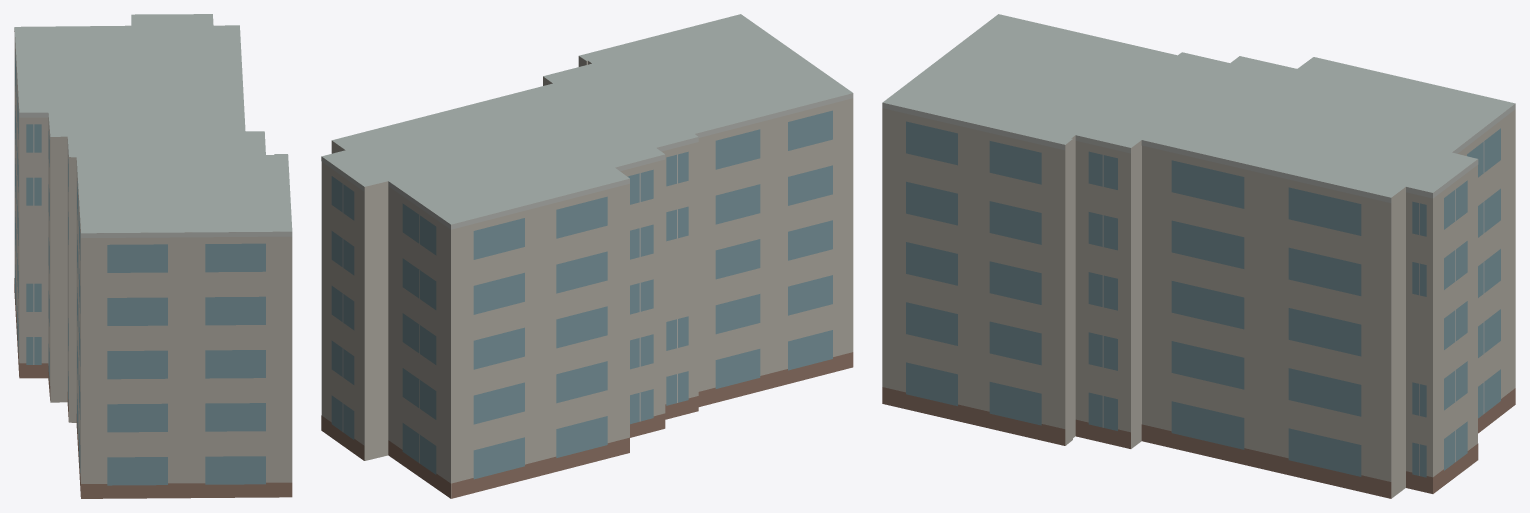
Rendered from survey-upis-32869197.glb.
3 renders of one model, left to right at view 1: azimuth 30°, elevation 25°; view 2: azimuth 150°, elevation 25°; view 3: azimuth 270°, elevation 25°, orthographic. The views are drawn at different scales.
Parts seen in each view (by area): view 1: survey-upis-32869197.tmp; view 2: survey-upis-32869197.tmp; view 3: survey-upis-32869197.tmp.
Boxes of the visible parts, x1,y1,x2,y2 form: survey-upis-32869197.tmp: (14,14,292,498); survey-upis-32869197.tmp: (321,14,853,498); survey-upis-32869197.tmp: (882,14,1515,498).
Size of the model in its own units: 17.28 by 13.2 by 25.16.
